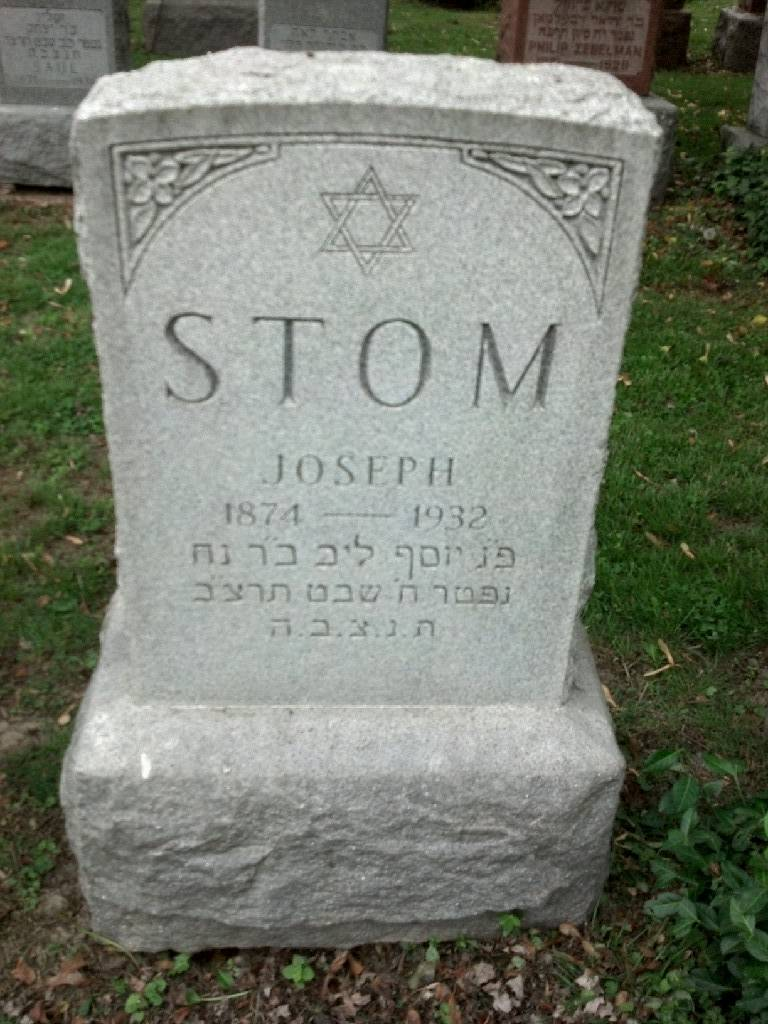upright: (44, 53, 662, 951)
